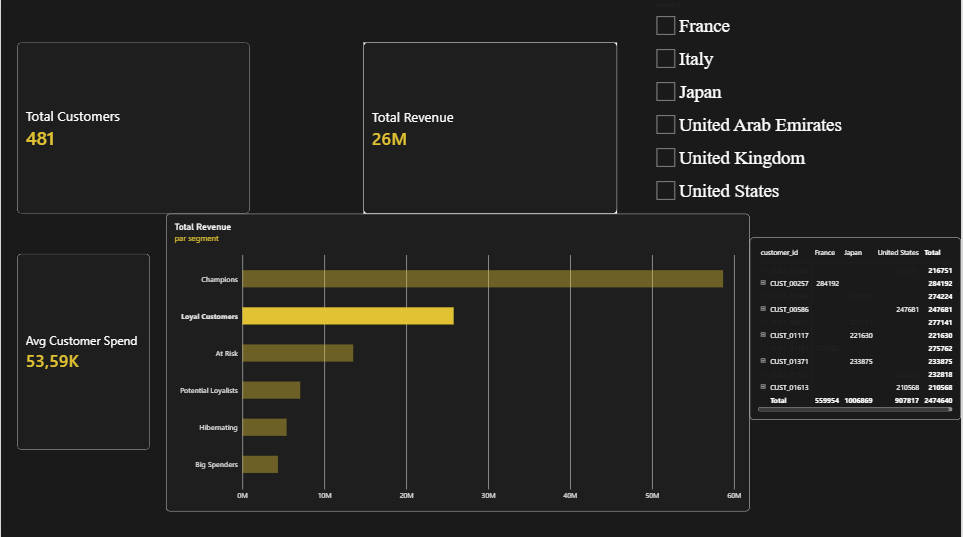

Layout of this report page (visuals, bound fields, positions):
{"tool":"powerbi","page":{"name":"Page 1","canvas":[1920,1080],"ordinal":0},"visuals":[{"type":"cardVisual","fields":{"Data":["transactions.Total Revenue"]},"box":[725,85,507.5,342.5],"z":0},{"type":"cardVisual","fields":{"Data":["transactions.Total Customers"]},"box":[32.5,85,465,342.5],"z":1000},{"type":"cardVisual","fields":{"Data":["transactions.Avg Customer Spend"]},"box":[32.5,507.5,265,392.5],"z":2000},{"type":"clusteredBarChart","fields":{"Category":["customer_rfm.segment"],"Y":["transactions.Total Revenue"]},"box":[330,427.5,1167.5,595],"z":3000},{"type":"slicer","fields":{"Values":["customers.country"]},"box":[1302.5,0,600,427.5],"z":4000},{"type":"pivotTable","fields":{"Columns":["customers.country"],"Rows":["customers.customer_id","customer_rfm.segment"],"Values":["transactions.Total Revenue"]},"box":[1497.5,475,422.5,365],"z":5000}]}

Visuals, with their boxes in screenshot pixels (x1, y1, x2, y2), scaled from the page's 1920x1080 canvas onto the 963x537 screenshot:
cardVisual - transactions.Total Revenue: detection(364, 42, 618, 213)
cardVisual - transactions.Total Customers: detection(16, 42, 250, 213)
cardVisual - transactions.Avg Customer Spend: detection(16, 252, 149, 448)
clusteredBarChart - customer_rfm.segment x transactions.Total Revenue: detection(166, 213, 751, 508)
slicer - customers.country: detection(653, 0, 954, 213)
pivotTable - customers.country x customers.customer_id: detection(751, 236, 962, 418)
